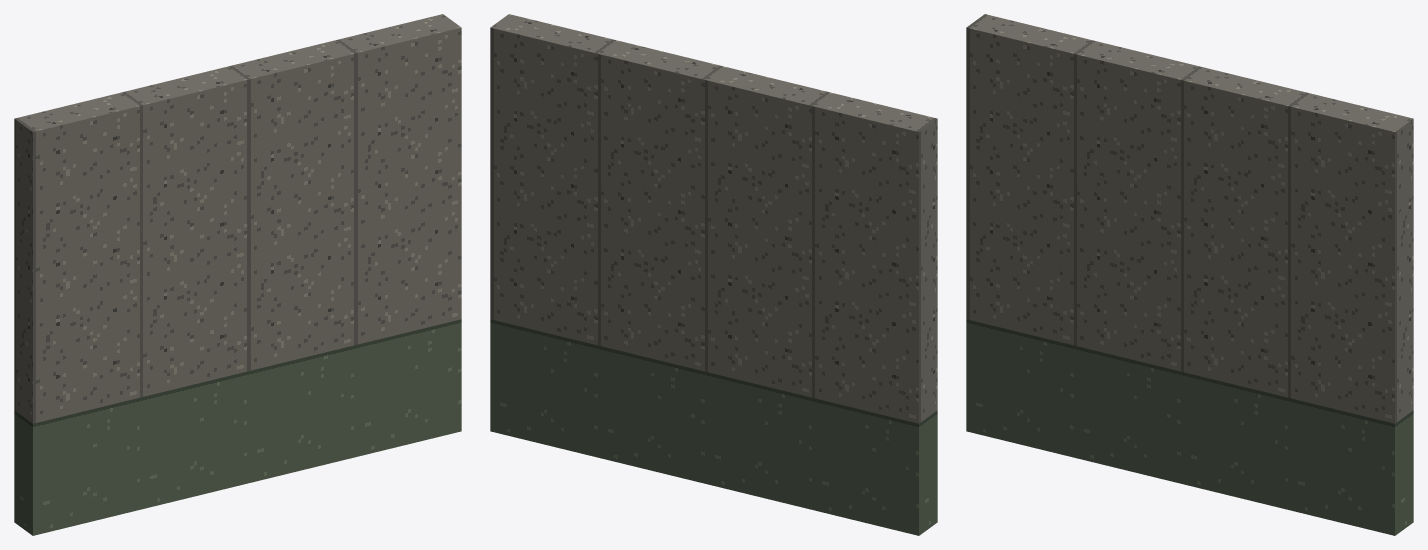
File: wall.glb
The picture shows the model from 3 angles, left to right: view 1: azimuth 30°, elevation 25°; view 2: azimuth 150°, elevation 25°; view 3: azimuth 330°, elevation 25°; orthographic projection.
Visible parts, largest first — view 1: wall mesh; view 2: wall mesh; view 3: wall mesh.
Part boxes in pixels (bbox=[...]): wall mesh: bbox=[14, 14, 461, 535]; wall mesh: bbox=[490, 14, 937, 535]; wall mesh: bbox=[966, 14, 1413, 535].
Size of the model in its own units: 4 by 3.6 by 0.3.
2 materials, 2 textured.
